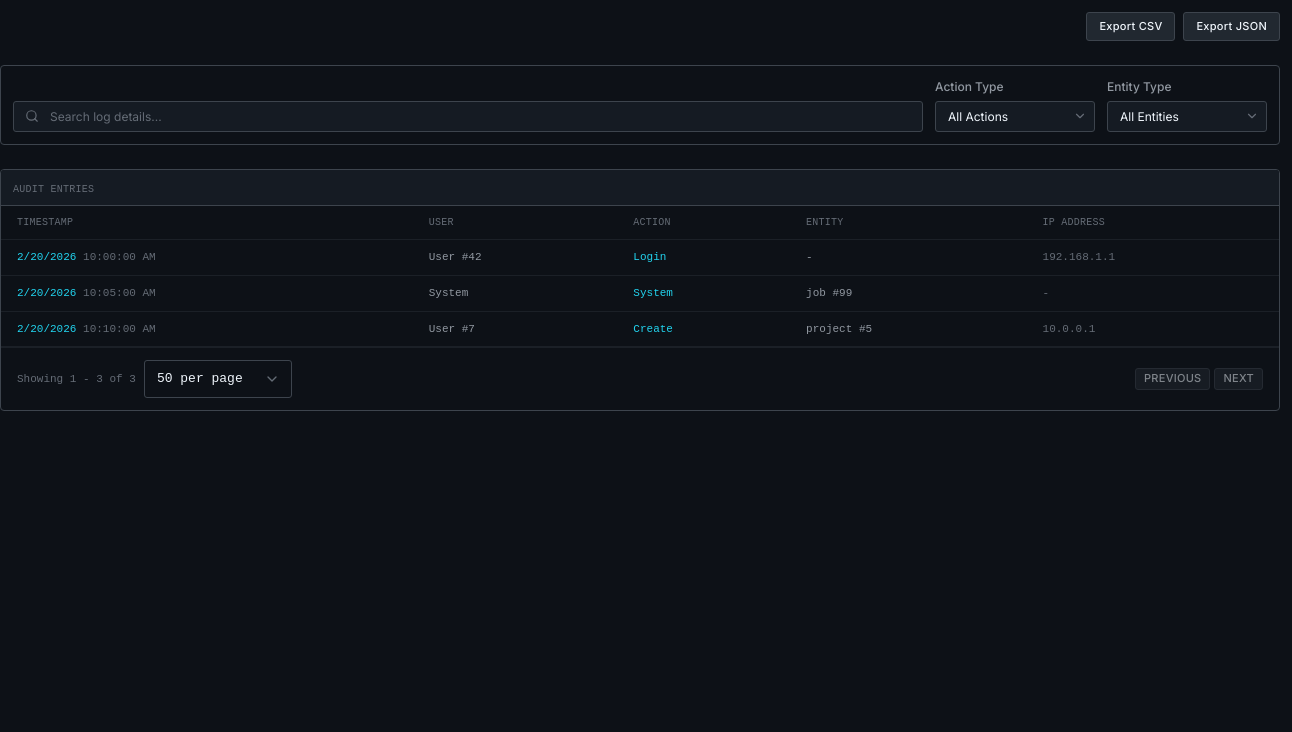
Test: AuditLogViewer › expands row details on click
Expected: the text "User #42" is shown, [413, 240, 617, 276]
// Click the first row.
Click the button "User #42" at (640, 258), box [1, 240, 1279, 276]
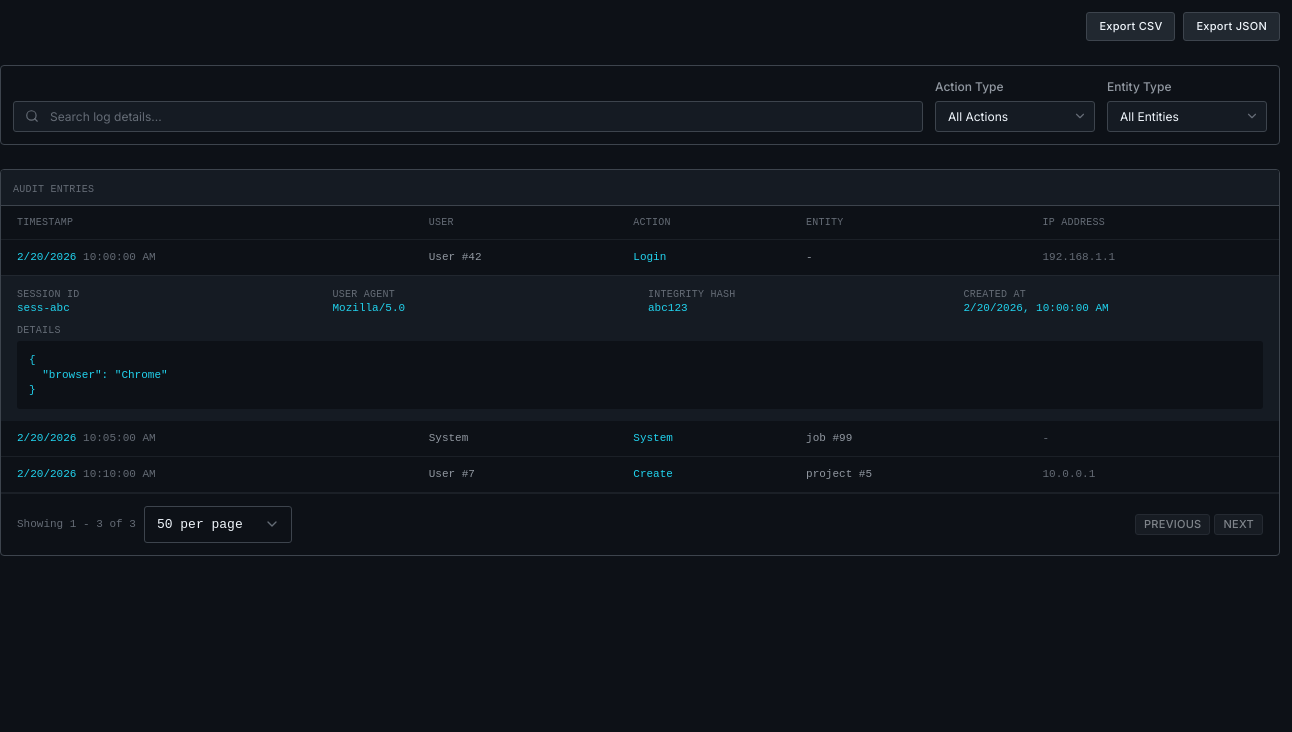
Expected: the text "Session ID" is shown, [17, 289, 80, 300]
Expected: the text "sess-abc" is shown, [17, 302, 70, 314]
